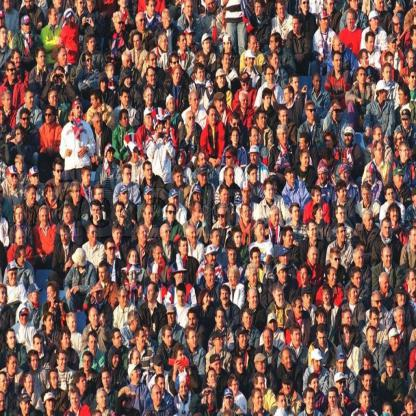face: (368, 329, 378, 347), (384, 249, 393, 268), (284, 350, 293, 369), (264, 329, 273, 348), (356, 251, 366, 268), (310, 223, 319, 241), (375, 295, 384, 313), (310, 247, 319, 265), (381, 277, 391, 293), (318, 332, 328, 348), (107, 243, 116, 260), (124, 391, 133, 408), (306, 392, 316, 407), (18, 250, 27, 266), (165, 330, 174, 346), (103, 373, 112, 389), (26, 376, 35, 392), (154, 389, 163, 405), (255, 392, 263, 410), (397, 310, 406, 326), (333, 254, 342, 270), (277, 290, 286, 306), (409, 273, 416, 293), (146, 88, 154, 105), (146, 207, 154, 224), (168, 206, 176, 223), (156, 246, 164, 263), (90, 226, 98, 243), (190, 332, 198, 349), (51, 373, 59, 390), (258, 378, 266, 395), (11, 357, 19, 374), (294, 329, 302, 346), (280, 129, 289, 144), (245, 313, 254, 328), (133, 366, 142, 381), (209, 371, 218, 386), (362, 190, 372, 203), (60, 49, 68, 65), (27, 92, 35, 108), (149, 69, 157, 85), (56, 70, 64, 86), (335, 55, 343, 71), (267, 68, 275, 84), (210, 109, 218, 125), (302, 152, 310, 168), (377, 144, 385, 160), (74, 187, 82, 203), (16, 207, 24, 223), (91, 311, 99, 327), (219, 209, 227, 225), (243, 207, 251, 223), (257, 225, 265, 241), (234, 232, 242, 248), (163, 225, 171, 241), (190, 228, 198, 244), (208, 270, 216, 286), (251, 293, 259, 309), (222, 289, 230, 305), (148, 286, 156, 302), (232, 379, 240, 395), (60, 354, 68, 370), (71, 393, 79, 409), (366, 215, 374, 231), (301, 269, 309, 285), (296, 302, 304, 318), (1, 376, 9, 392), (93, 206, 102, 220), (63, 334, 72, 348), (221, 189, 230, 203), (83, 356, 92, 370), (178, 351, 187, 365), (258, 360, 267, 374), (384, 223, 393, 237), (354, 274, 363, 288), (285, 231, 294, 245), (9, 64, 17, 79), (4, 95, 12, 110), (46, 109, 54, 124), (188, 112, 196, 127), (308, 105, 316, 120), (334, 106, 342, 121), (347, 14, 355, 29), (385, 67, 393, 82), (56, 165, 64, 180), (61, 230, 69, 245), (17, 232, 25, 247), (70, 317, 78, 332), (9, 333, 17, 348), (35, 338, 43, 353), (100, 267, 108, 282), (254, 252, 262, 267), (178, 290, 186, 305), (217, 311, 225, 326), (90, 336, 98, 351), (139, 331, 147, 346), (100, 393, 108, 408), (387, 188, 395, 203), (330, 270, 338, 285), (387, 363, 395, 378), (283, 384, 293, 396), (162, 35, 169, 52), (251, 36, 258, 53), (394, 17, 401, 34), (391, 209, 400, 222), (304, 294, 313, 307), (338, 360, 347, 373), (329, 393, 338, 406), (362, 394, 371, 407), (38, 51, 46, 65), (96, 116, 103, 132), (150, 54, 158, 68), (134, 36, 142, 50), (164, 13, 171, 29), (16, 129, 24, 143), (278, 4, 286, 18), (180, 36, 188, 50), (272, 55, 280, 69), (192, 94, 199, 110), (409, 51, 416, 67), (368, 37, 376, 51), (359, 70, 367, 84), (345, 132, 353, 146), (84, 172, 92, 186), (64, 209, 72, 223), (30, 188, 37, 204), (42, 210, 49, 226), (10, 270, 18, 284), (115, 230, 123, 244), (125, 168, 132, 184), (146, 165, 154, 179), (227, 169, 235, 183), (213, 231, 221, 245), (230, 251, 238, 265), (250, 271, 258, 285), (181, 242, 189, 256), (229, 272, 237, 286), (189, 315, 197, 329), (121, 292, 129, 306), (141, 227, 148, 243), (115, 333, 123, 347), (216, 336, 224, 350), (240, 334, 248, 348), (237, 359, 244, 375), (181, 383, 189, 397), (117, 206, 125, 220), (338, 208, 346, 222), (398, 292, 406, 306), (372, 314, 380, 328), (280, 269, 288, 283), (345, 313, 353, 327), (365, 376, 373, 390), (311, 378, 319, 392), (279, 397, 287, 411), (125, 57, 133, 71), (207, 390, 215, 404), (269, 321, 278, 333), (51, 92, 58, 107), (139, 16, 146, 31), (293, 19, 300, 34), (271, 36, 278, 51), (252, 129, 259, 144), (363, 53, 370, 68), (48, 287, 55, 302), (351, 288, 358, 303), (344, 329, 351, 344), (149, 2, 157, 15), (255, 4, 263, 17), (204, 40, 212, 53), (232, 131, 240, 144), (281, 112, 289, 125), (376, 131, 384, 144), (403, 147, 411, 160), (21, 312, 29, 325), (96, 292, 104, 305), (176, 173, 184, 186), (168, 312, 176, 325), (133, 318, 141, 331), (213, 361, 221, 374), (156, 362, 164, 375), (23, 401, 31, 414), (293, 208, 301, 221), (396, 173, 404, 186), (323, 291, 331, 304), (392, 337, 400, 350), (200, 154, 208, 167), (272, 212, 280, 225), (196, 204, 202, 221), (281, 254, 290, 265), (14, 53, 21, 67), (23, 114, 30, 128), (91, 95, 98, 109), (123, 93, 130, 107), (1, 30, 8, 44), (293, 79, 300, 93), (242, 94, 249, 108), (224, 56, 231, 70), (260, 114, 267, 128), (97, 189, 104, 203), (48, 317, 55, 331), (130, 270, 137, 284), (134, 353, 141, 367), (32, 356, 39, 370), (340, 188, 347, 202), (315, 190, 322, 204), (289, 169, 296, 183), (339, 228, 346, 242), (1, 289, 8, 303), (89, 38, 97, 50), (75, 105, 83, 117), (52, 9, 58, 25), (186, 4, 194, 16), (285, 89, 291, 105), (217, 100, 225, 112), (219, 75, 227, 87), (198, 69, 206, 81), (403, 118, 411, 130), (122, 193, 130, 205), (147, 193, 155, 205), (204, 293, 212, 305), (177, 273, 185, 285), (226, 397, 234, 409), (319, 171, 327, 183), (318, 315, 326, 327), (364, 359, 372, 371), (314, 360, 322, 372), (226, 153, 234, 165), (117, 19, 124, 32), (168, 99, 175, 112), (315, 78, 322, 91), (199, 57, 206, 70), (175, 70, 182, 83), (326, 137, 333, 150), (398, 134, 405, 147), (251, 170, 258, 183), (80, 378, 87, 391), (159, 378, 166, 391), (368, 172, 375, 185), (317, 207, 324, 220), (342, 169, 349, 182), (132, 150, 139, 163), (87, 55, 93, 70), (207, 3, 217, 12), (267, 184, 273, 199), (337, 382, 346, 392), (32, 174, 40, 185), (200, 174, 208, 185), (47, 401, 55, 412), (1, 395, 6, 412), (24, 21, 31, 33), (265, 96, 272, 108), (173, 57, 180, 69), (300, 138, 307, 150), (390, 41, 397, 53), (400, 90, 406, 104), (12, 174, 19, 186), (33, 292, 40, 304), (244, 189, 251, 201), (131, 253, 138, 265), (143, 328, 150, 340), (113, 355, 120, 367), (248, 55, 255, 67), (26, 1, 35, 10), (146, 116, 154, 126), (194, 193, 202, 203), (411, 230, 416, 246), (109, 65, 115, 78), (123, 114, 129, 127), (233, 119, 239, 132), (49, 188, 55, 201), (407, 403, 413, 416), (125, 78, 132, 89), (88, 2, 95, 13), (78, 1, 85, 12), (158, 122, 165, 133), (336, 43, 343, 54), (372, 18, 379, 29), (382, 89, 388, 101), (323, 158, 332, 166), (108, 152, 115, 162), (322, 19, 329, 29), (226, 43, 233, 53), (173, 197, 180, 207), (210, 254, 217, 264), (251, 154, 258, 164), (102, 81, 108, 92), (6, 135, 12, 146), (71, 110, 76, 123), (411, 74, 416, 87), (351, 2, 359, 10), (187, 35, 194, 44), (243, 82, 250, 91), (386, 407, 393, 416), (166, 118, 172, 128), (378, 2, 384, 12), (389, 57, 394, 69), (18, 161, 24, 171), (56, 1, 63, 9), (303, 4, 310, 12), (328, 4, 335, 11), (1, 111, 5, 123), (75, 260, 80, 268), (122, 1, 128, 7), (413, 195, 416, 207), (71, 16, 76, 23), (1, 18, 6, 25), (5, 3, 10, 10), (414, 29, 416, 45), (414, 2, 416, 11)
